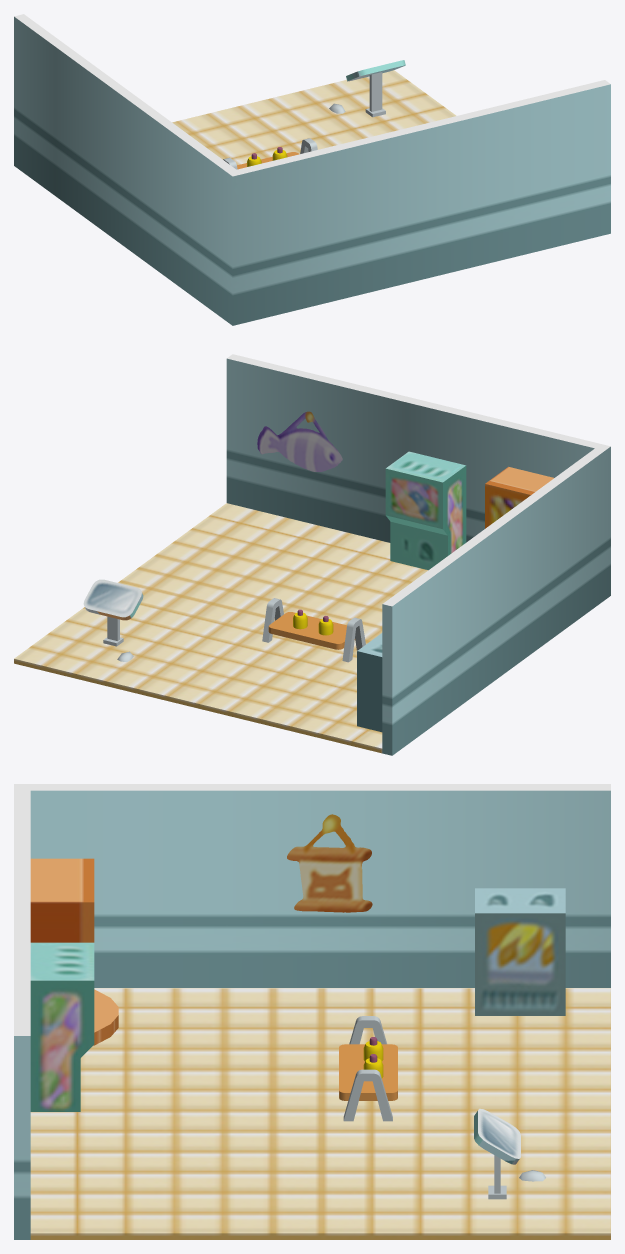
File: Scene_base_shop.FBX
3 renders of one model, top to bottom at view 1: azimuth 30°, elevation 25°; view 2: azimuth 150°, elevation 25°; view 3: azimuth 270°, elevation 25°, orthographic. The views are drawn at different scales.
Parts seen in each view (by area): view 1: wall, floor, pCube11, pCube9; view 2: wall, floor, pCube4, pCube2, pCube6, pCube1, pCube9, pCube5, pCube12; view 3: floor, wall, pCube6, pCube4, pCube1, pCube3, pCube5, pCube9, pCube7, pCube8, pCube12.
Boxes of the visible parts, x1,y1,x2,y2 form: wall: (14, 14, 610, 325); floor: (172, 70, 456, 165); pCube11: (369, 72, 382, 111); pCube9: (346, 60, 405, 81); wall: (226, 354, 610, 755); floor: (14, 503, 427, 753); pCube4: (385, 451, 466, 570); pCube2: (257, 411, 342, 471); pCube6: (357, 633, 382, 732); pCube1: (485, 466, 553, 528); pCube9: (83, 579, 143, 620); pCube5: (268, 612, 355, 649); pCube12: (342, 617, 365, 662); floor: (30, 988, 610, 1239); wall: (14, 784, 610, 1239); pCube6: (475, 888, 565, 1015); pCube4: (30, 942, 94, 1111); pCube1: (30, 858, 94, 1045); pCube3: (287, 814, 372, 912); pCube5: (339, 1044, 397, 1100); pCube9: (474, 1108, 520, 1164); pCube7: (343, 1069, 392, 1121); pCube8: (94, 989, 118, 1045); pCube12: (349, 1016, 386, 1044).
Bounding box in the file's own units: 411 × 155 × 411.
3 materials, 3 textured.
